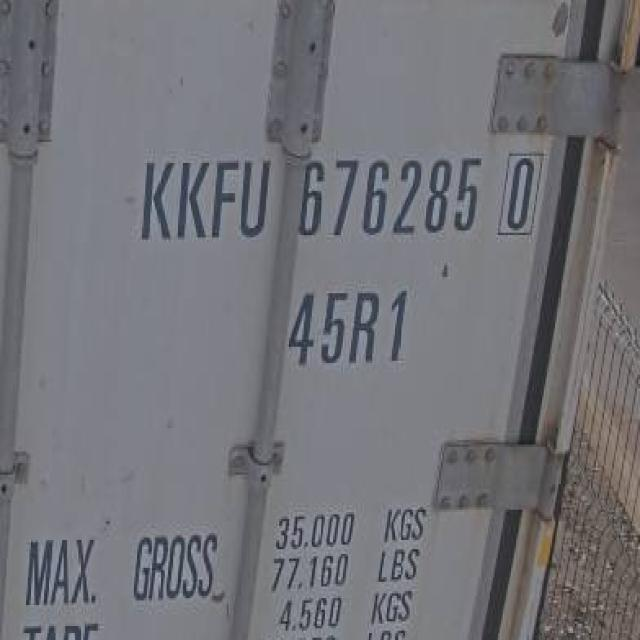dv: (497, 146, 542, 244)
owner: (137, 147, 276, 250)
serial: (295, 151, 486, 246)
size: (279, 284, 416, 373)
